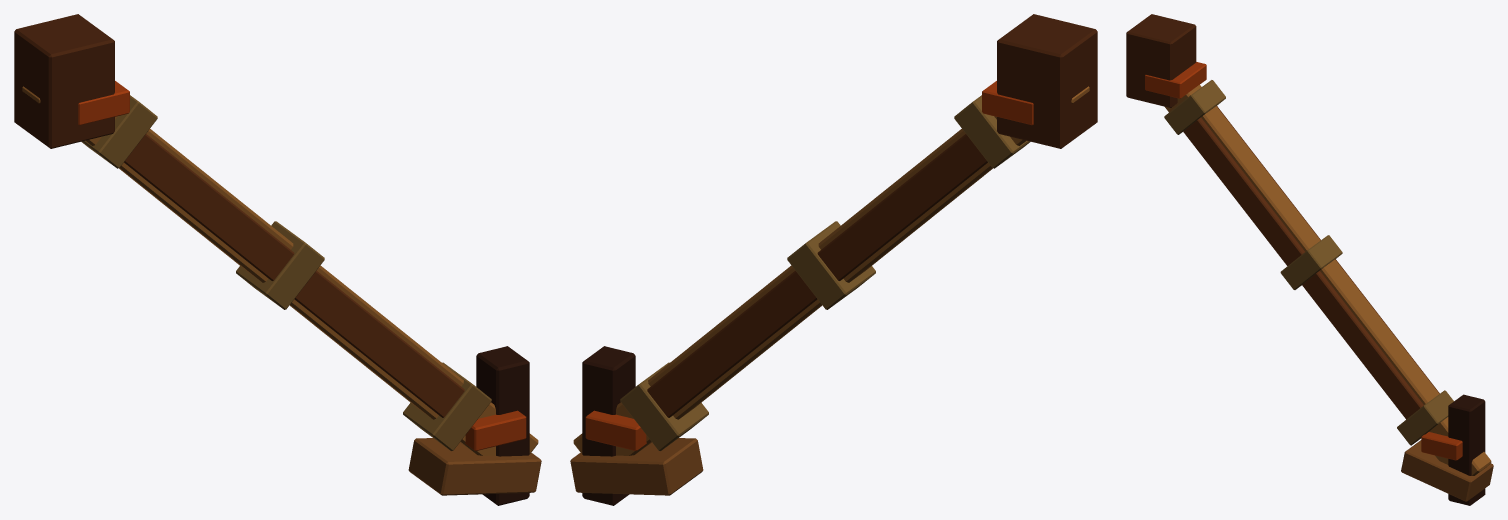
Rendered from mod_temp_wood_brace_2m.glb.
3 views of the same model, side by side, from view 1: azimuth 30°, elevation 25°; view 2: azimuth 150°, elevation 25°; view 3: azimuth 330°, elevation 25° (orthographic). The views are drawn at different scales.
Visible parts, largest first — view 1: Mod_Temp_Wood_Brace_2m; view 2: Mod_Temp_Wood_Brace_2m; view 3: Mod_Temp_Wood_Brace_2m.
Part boxes in pixels (x1,y1,x2,y2): Mod_Temp_Wood_Brace_2m: (14,14,541,505); Mod_Temp_Wood_Brace_2m: (570,14,1097,505); Mod_Temp_Wood_Brace_2m: (1126,14,1493,505).
Size of the model in its own units: 1.44 by 1.56 by 0.19.
